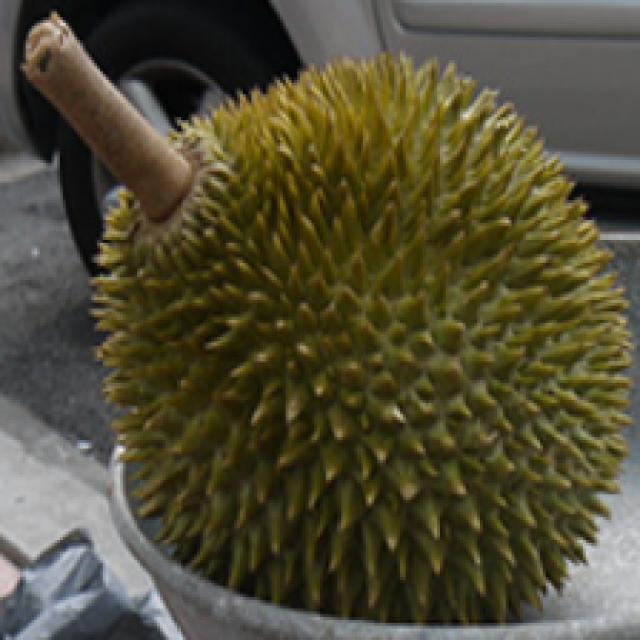d24: (30, 25, 617, 598)
